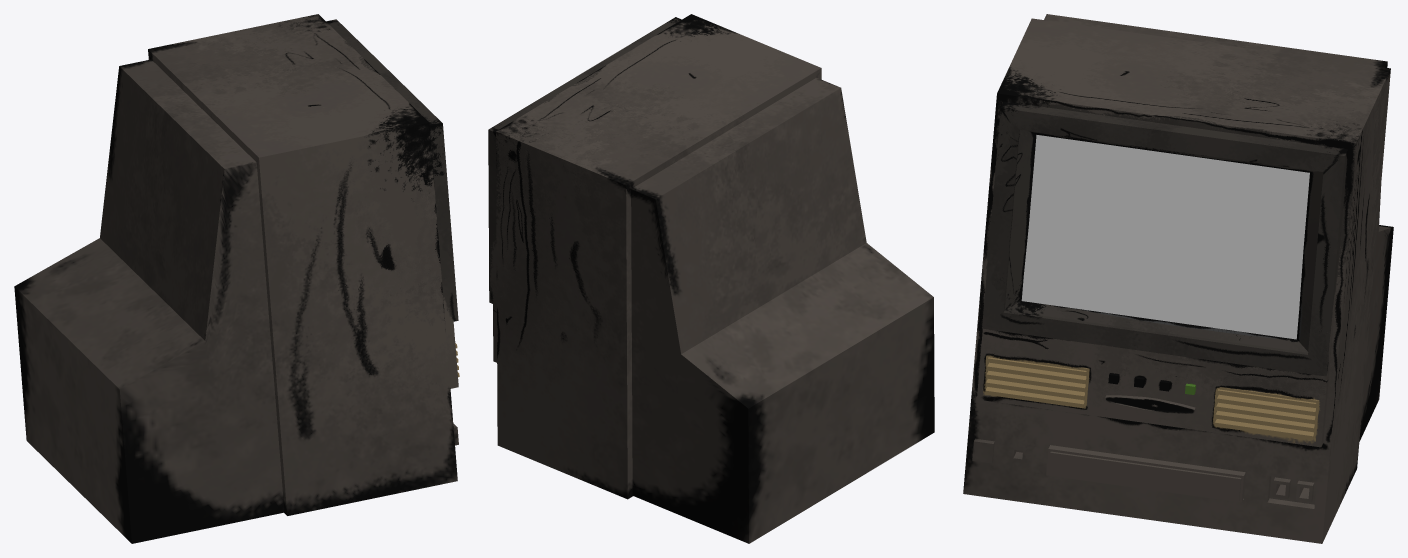
The picture shows the model from 3 angles, left to right: view 1: azimuth 30°, elevation 25°; view 2: azimuth 150°, elevation 25°; view 3: azimuth 270°, elevation 25°; orthographic projection. The views are drawn at different scales.
Visible parts, largest first — view 1: TV-6; view 2: TV-6; view 3: TV-6, TV-6-Screen.
Part boxes in pixels (x1,y1,x2,y2): TV-6: (14, 14, 459, 543); TV-6: (488, 14, 934, 543); TV-6: (963, 14, 1393, 543); TV-6-Screen: (1021, 135, 1309, 339).
Bounding box in the file's own units: 9.68 × 10.08 × 9.08.
Materials: 1 (1 with a texture image).
